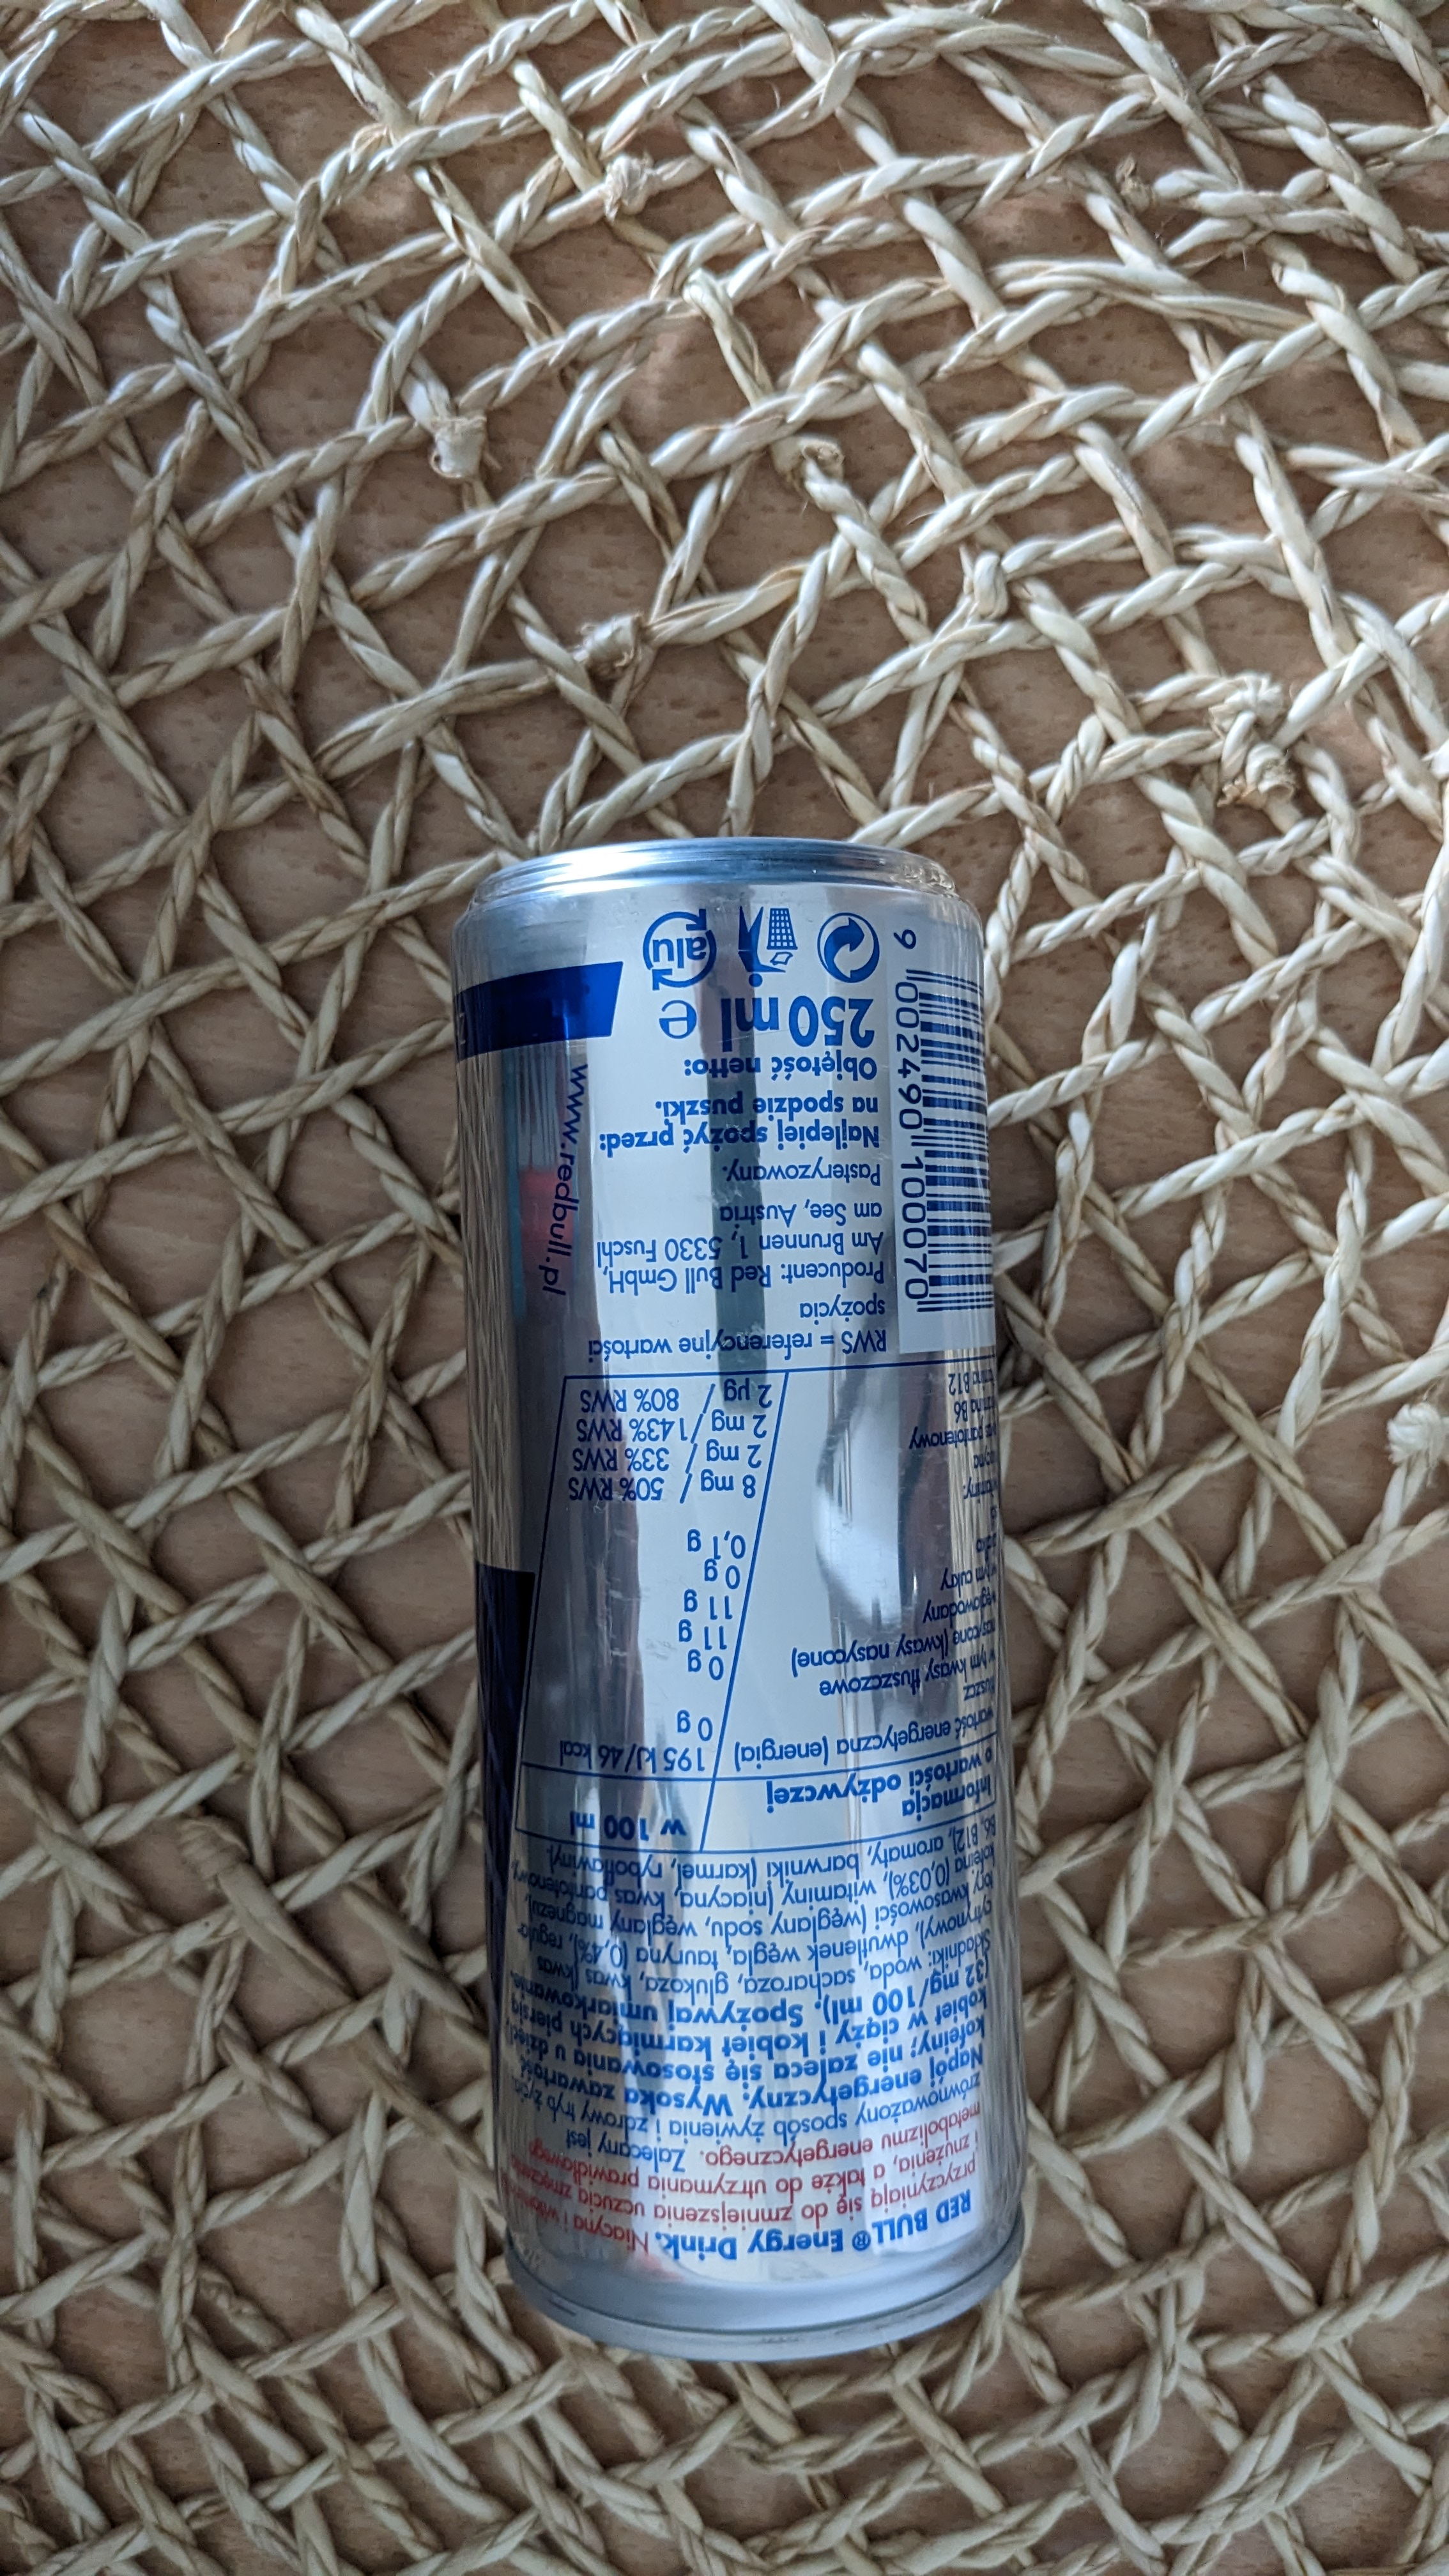red-bull: (441, 812, 1072, 2381)
